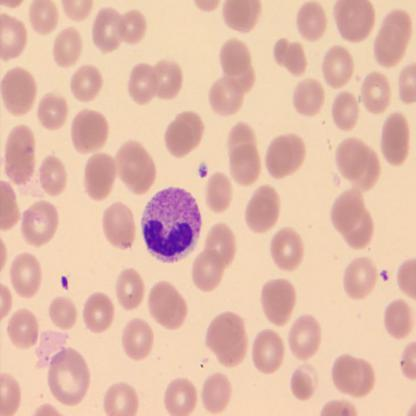Band Neutrophil: (139, 184, 203, 263)
